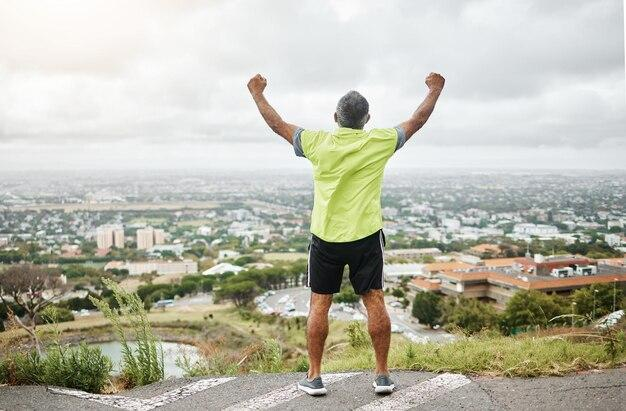Human: (253, 62, 443, 398)
